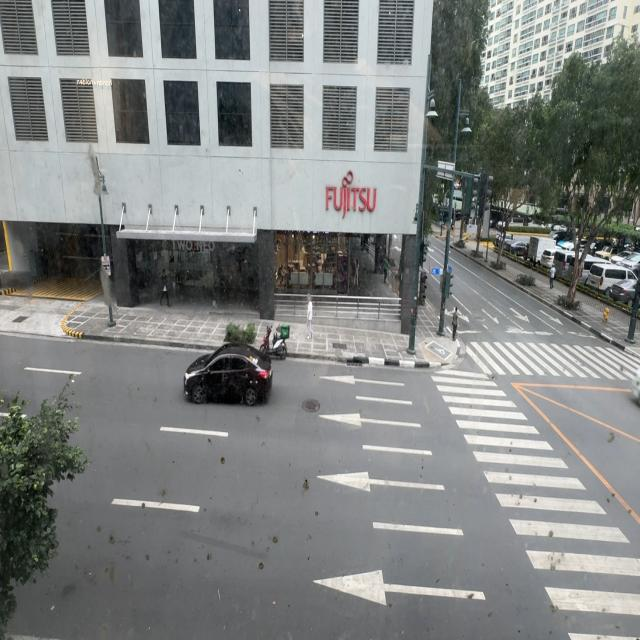pedestrain: (160, 270, 171, 308), (306, 296, 313, 342), (550, 262, 556, 287)
waiting: (452, 306, 459, 342)
